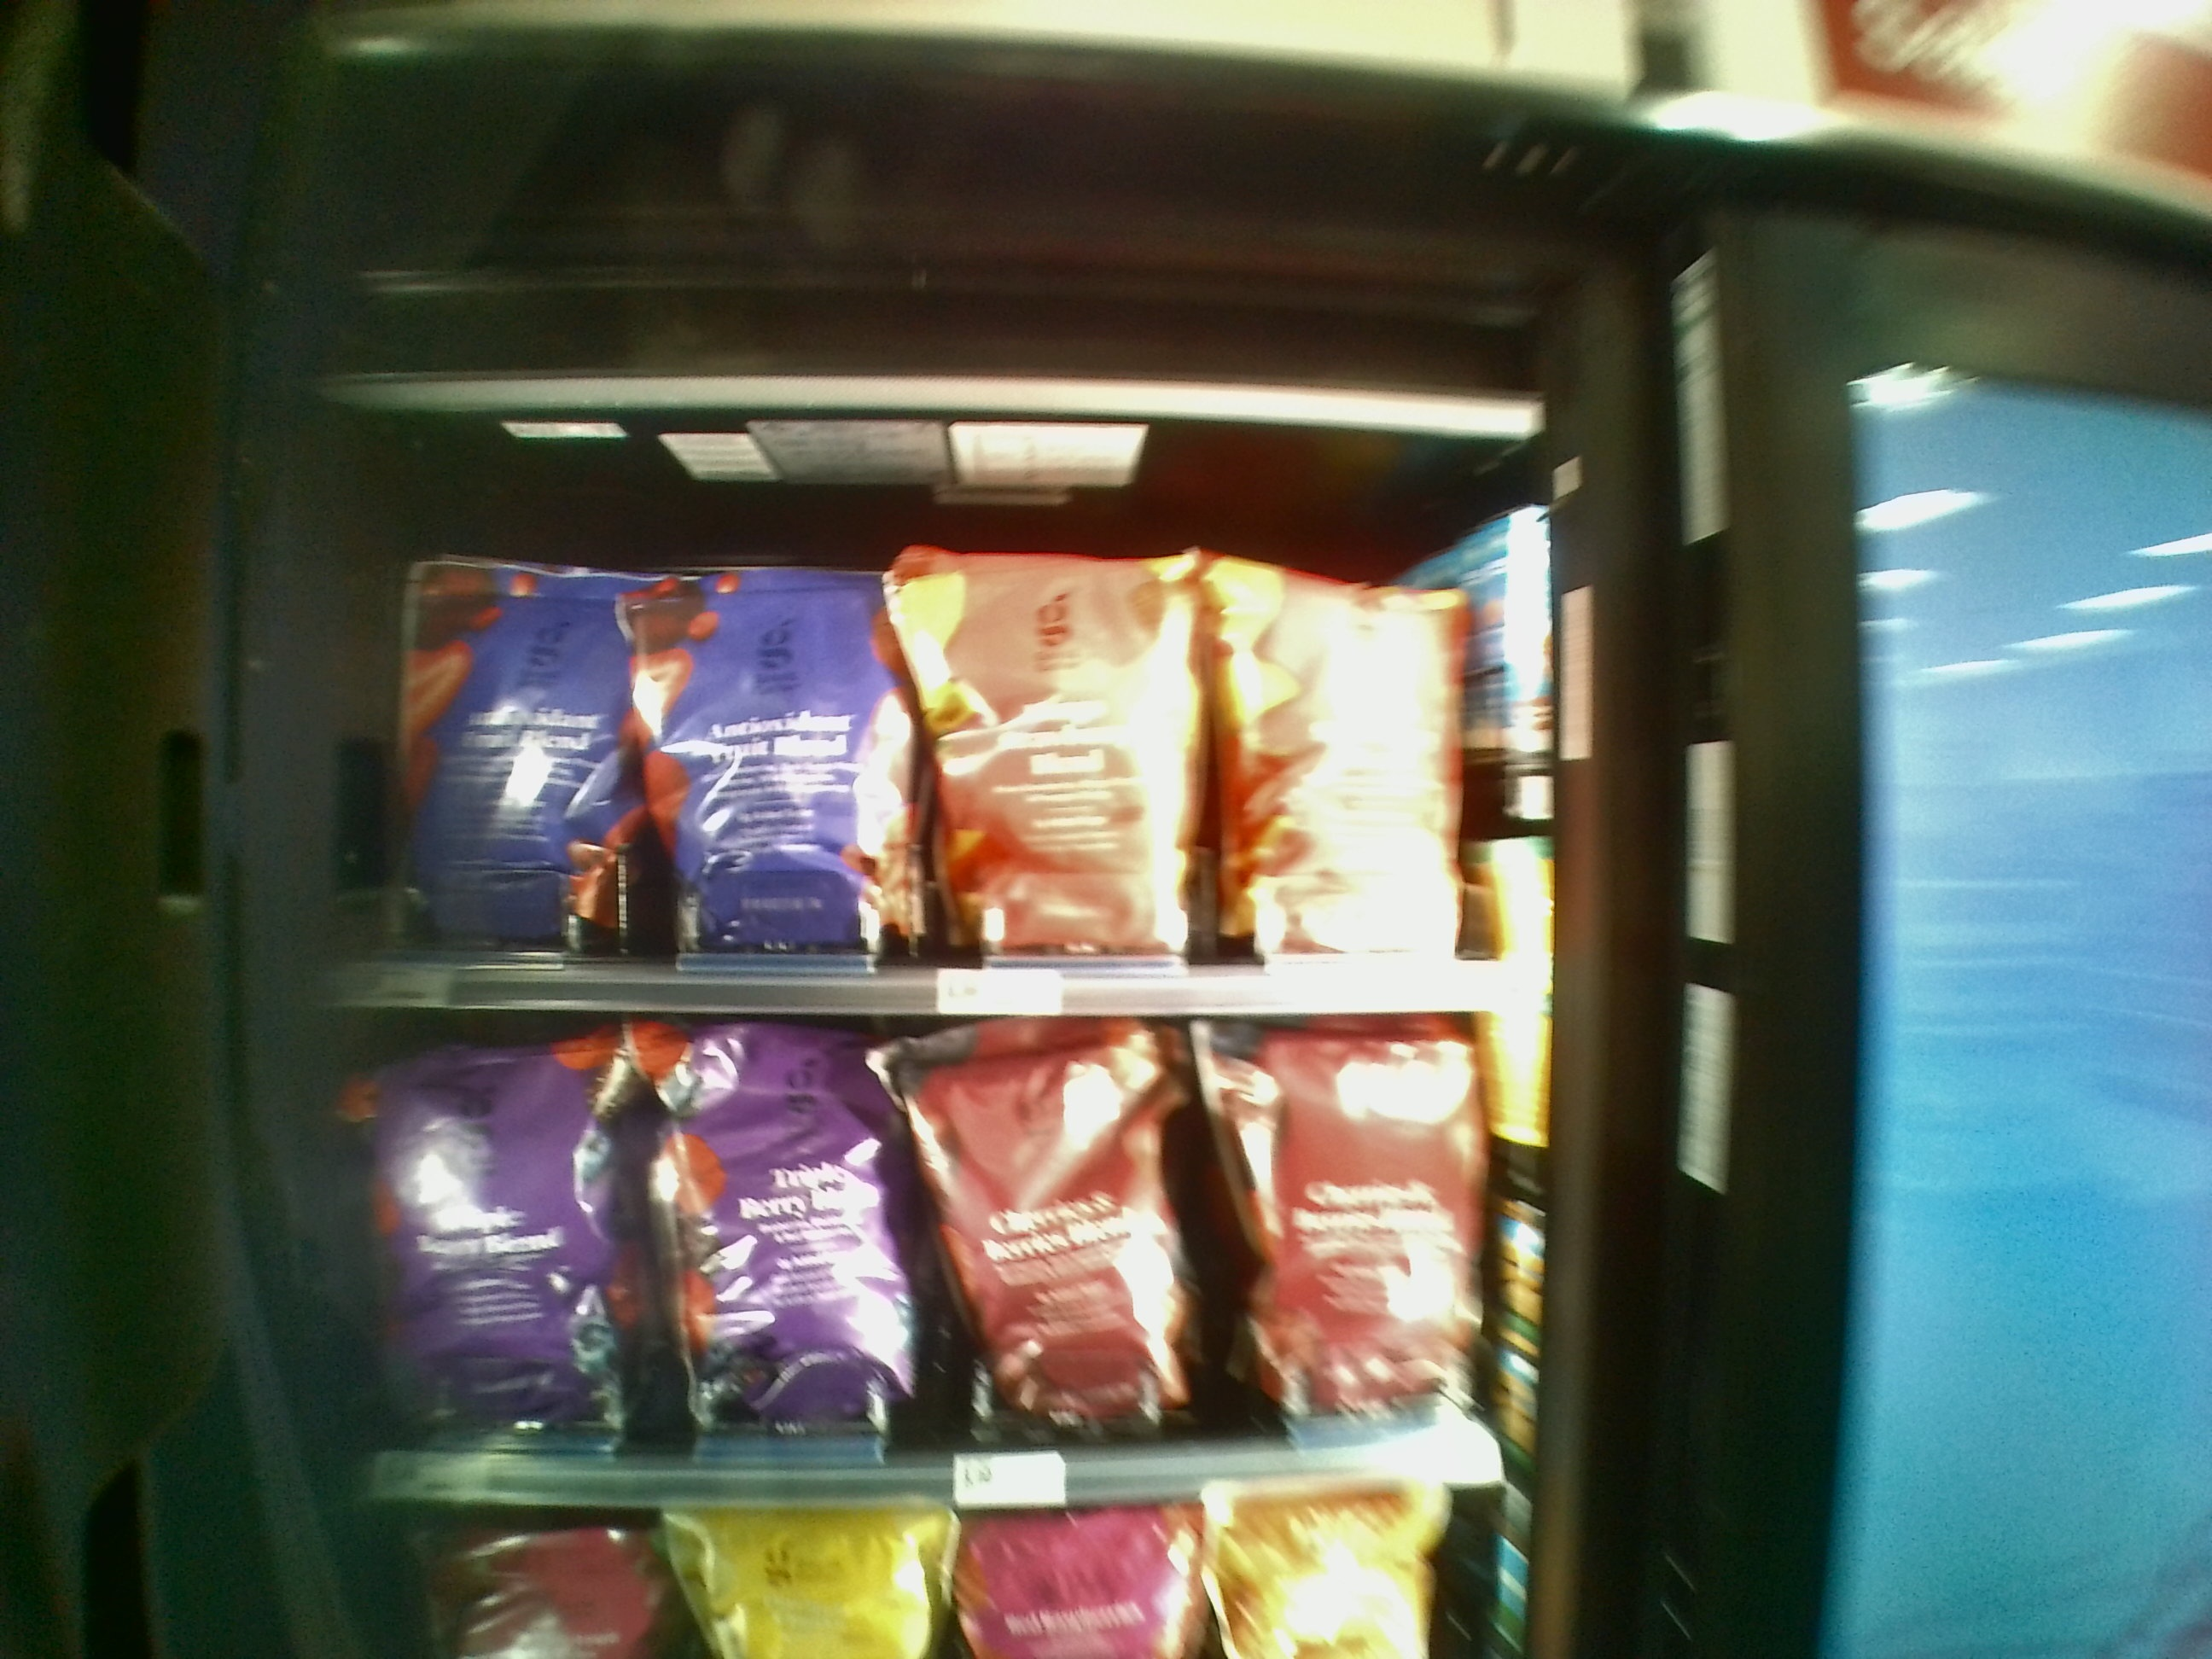shelf: (331, 415, 1541, 1014), (354, 1018, 1517, 1504)
